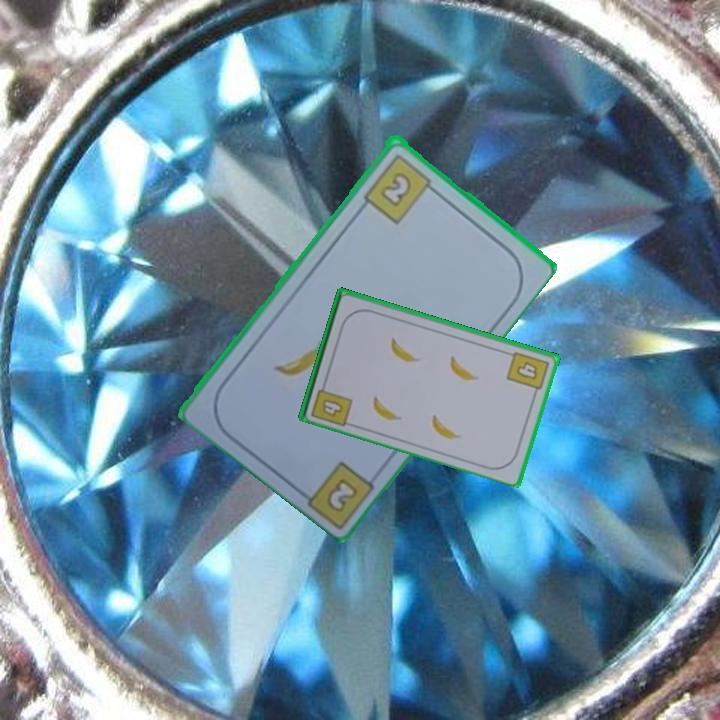2b: (360, 149, 440, 226), (326, 477, 358, 512)
4b: (307, 377, 355, 429), (503, 348, 552, 398)
